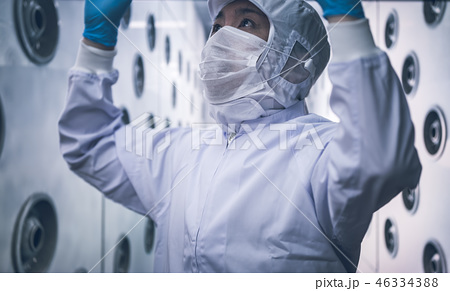mask: (183, 27, 274, 109)
